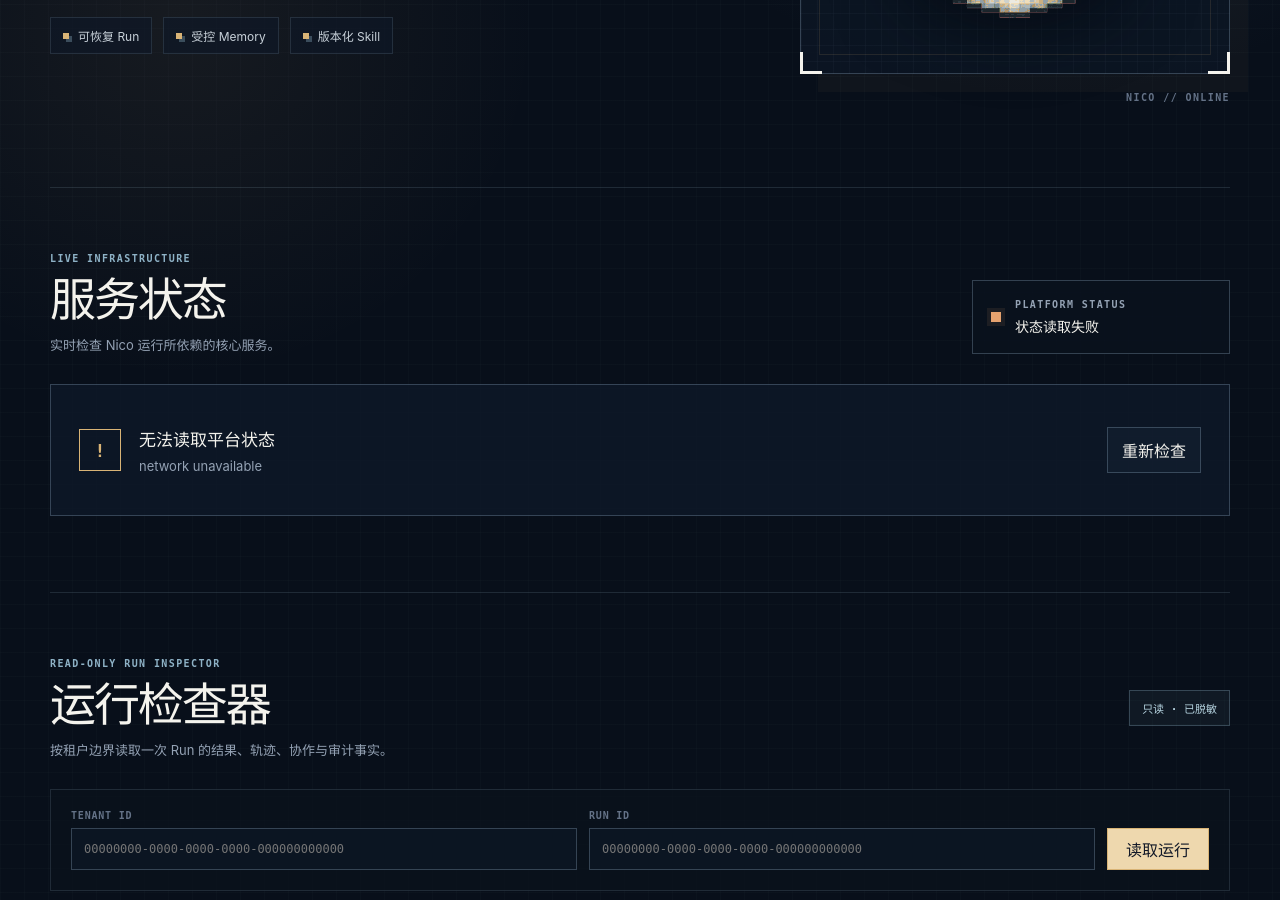
Test: infrastructure status page › reports transport failures and supports a manual retry
The image size is (1280, 900).
(page scrolled)
Expected: the text "无法读取平台状态" is shown, [139,430,275,450]
Click the button "重新检查". click: x=1154, y=450
box: [1107,427,1201,473]
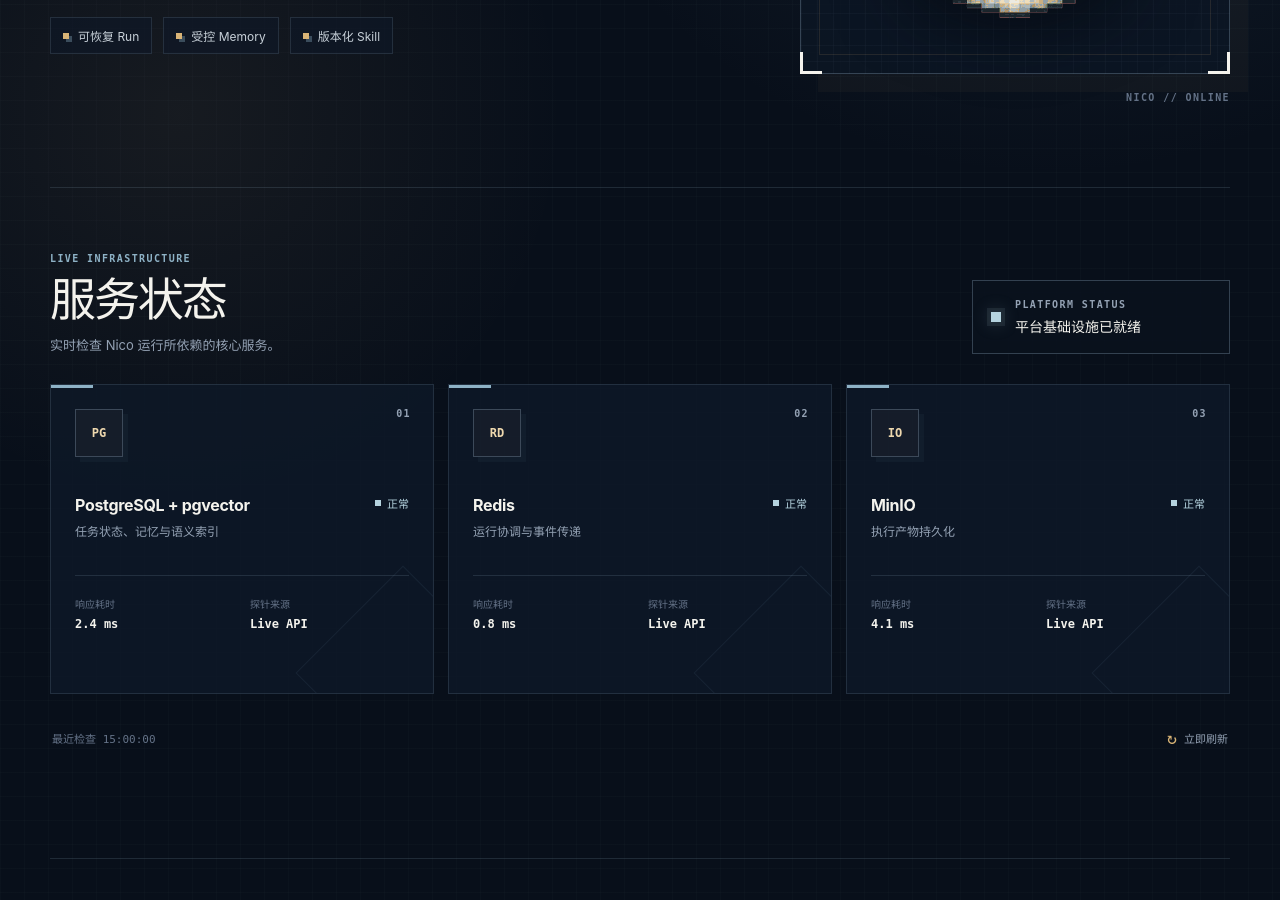
Result: the text "平台基础设施已就绪" is shown at [1015,316,1141,336]
